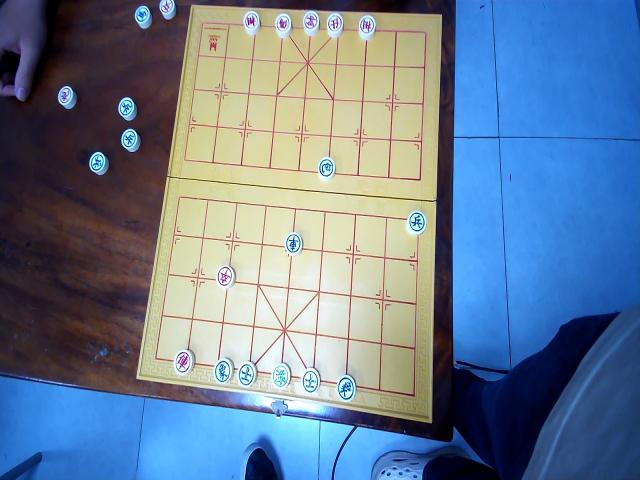piece: (336, 373, 356, 402), (174, 348, 194, 376), (213, 357, 233, 384), (406, 210, 426, 235), (89, 150, 109, 175), (358, 13, 376, 40), (272, 362, 290, 389), (301, 368, 319, 395), (215, 265, 234, 290), (238, 360, 256, 386), (120, 128, 139, 152), (326, 12, 344, 37), (58, 84, 76, 109), (284, 230, 302, 255), (317, 155, 335, 180), (118, 95, 136, 120), (134, 4, 152, 28), (243, 11, 260, 35), (275, 13, 291, 38), (303, 11, 319, 35), (159, 0, 176, 21)
